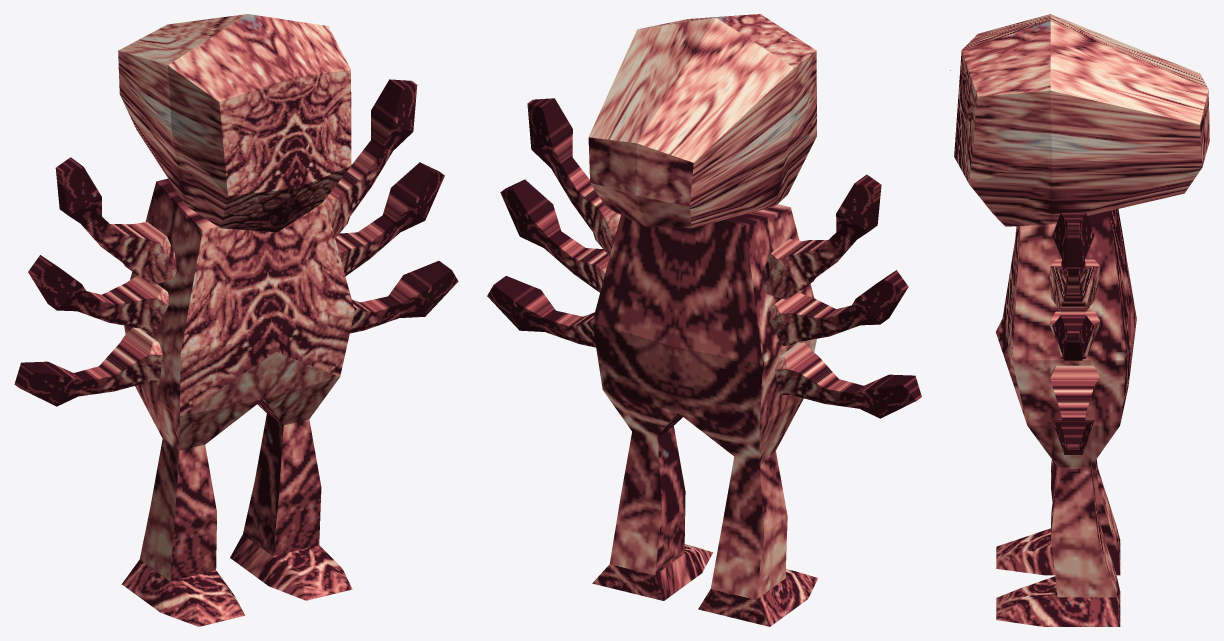
The model's file is Monster 1.fbx.
3 renders of one model, left to right at view 1: azimuth 30°, elevation 25°; view 2: azimuth 150°, elevation 25°; view 3: azimuth 270°, elevation 25°, orthographic. The views are drawn at different scales.
Parts seen in each view (by area): view 1: Plane.005; view 2: Plane.005; view 3: Plane.005.
Part boxes in pixels (left/top/right/bottom): Plane.005: left=14, top=14, right=458, bottom=626; Plane.005: left=487, top=14, right=921, bottom=626; Plane.005: left=954, top=14, right=1209, bottom=626.
Bounding box in the file's own units: 11.28 × 14.11 × 5.91.
Materials: 1 (1 with a texture image).
